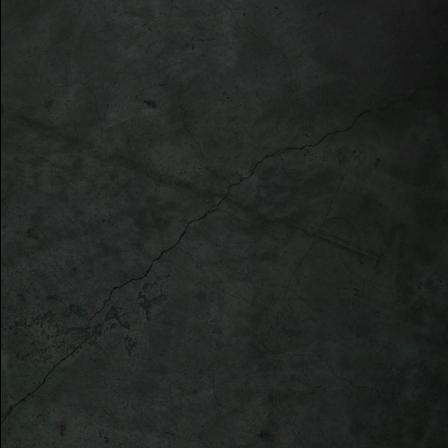crack: (0, 44, 445, 427)
